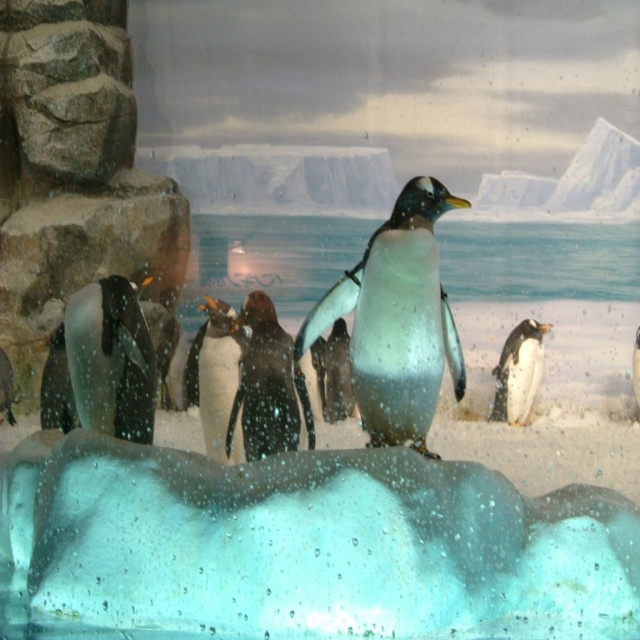Penguin: (322, 179, 474, 458), (61, 273, 147, 443), (229, 293, 311, 443), (198, 293, 249, 478), (490, 315, 545, 432), (322, 315, 353, 425)
